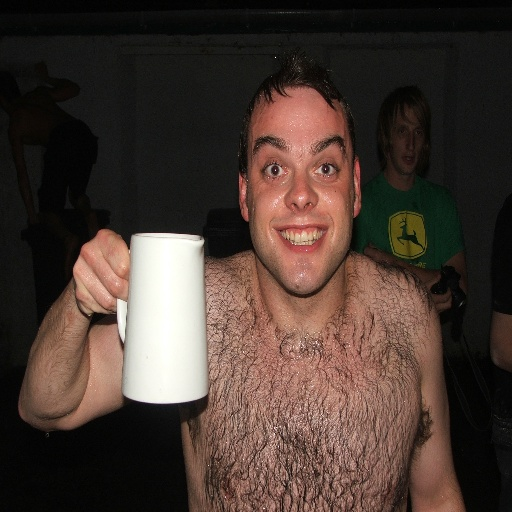hand: (64, 224, 129, 331), (425, 274, 453, 313), (363, 240, 389, 266)
